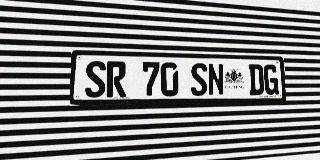0: (160, 62, 178, 96)
7: (141, 62, 160, 97)
D: (248, 64, 264, 95)
G: (263, 64, 279, 95)
N: (208, 63, 224, 96)
R: (106, 61, 126, 97)
S: (85, 61, 106, 98), (190, 63, 208, 96)
